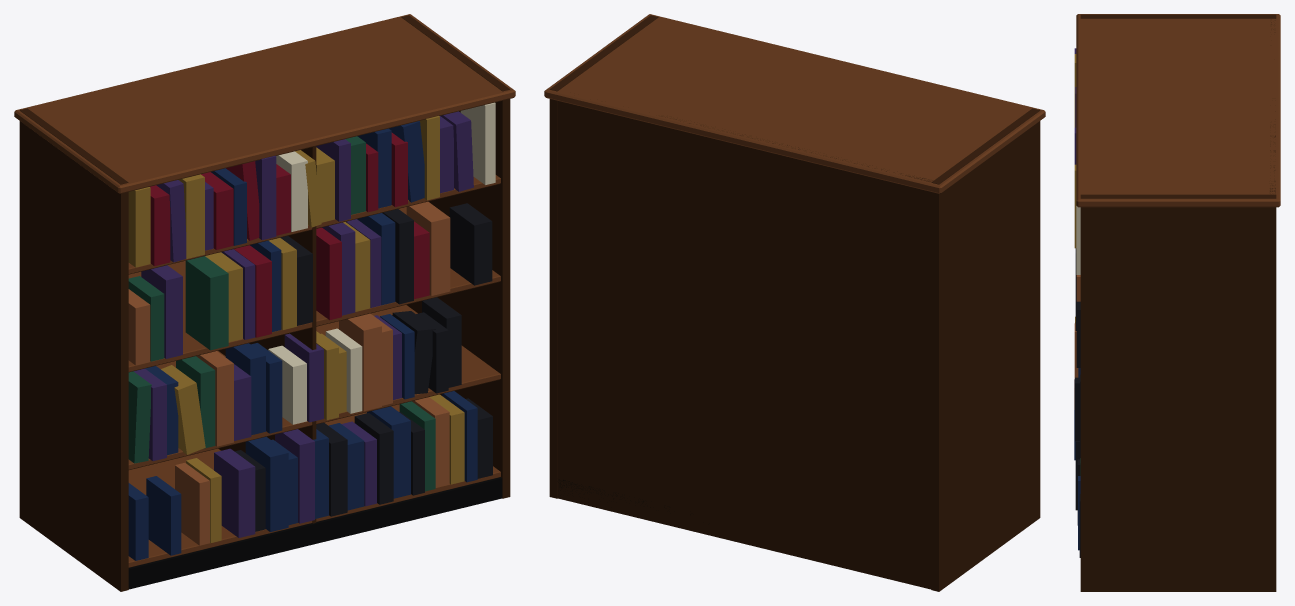
Rendered from bookshelf.glb.
3 views of the same model, side by side, from view 1: azimuth 30°, elevation 25°; view 2: azimuth 150°, elevation 25°; view 3: azimuth 270°, elevation 25° (orthographic). The views are drawn at different scales.
Parts seen in each view (by area): view 1: bookshelf; view 2: bookshelf; view 3: bookshelf.
Boxes of the visible parts, x1,y1,x2,y2 form: bookshelf: (14, 14, 515, 591); bookshelf: (544, 14, 1045, 591); bookshelf: (1074, 14, 1280, 591).
Bounding box in the file's own units: 2.04 × 2 × 0.9492.
